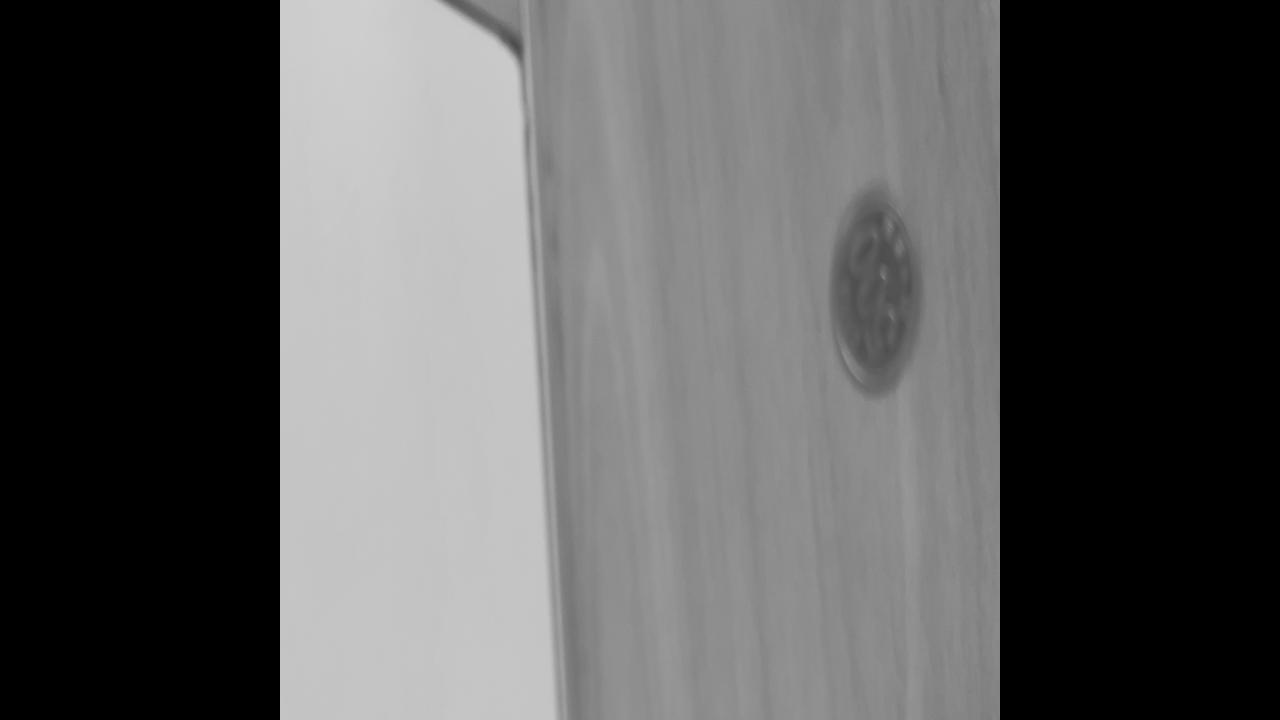coin: (829, 184, 921, 398)
